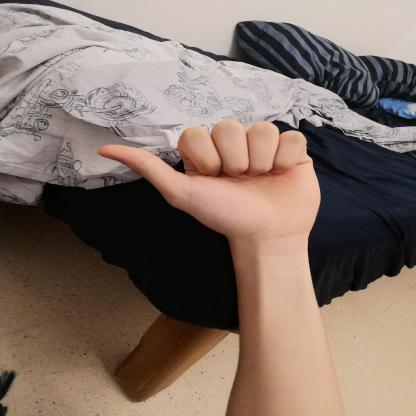DAD: (84, 110, 332, 250)
